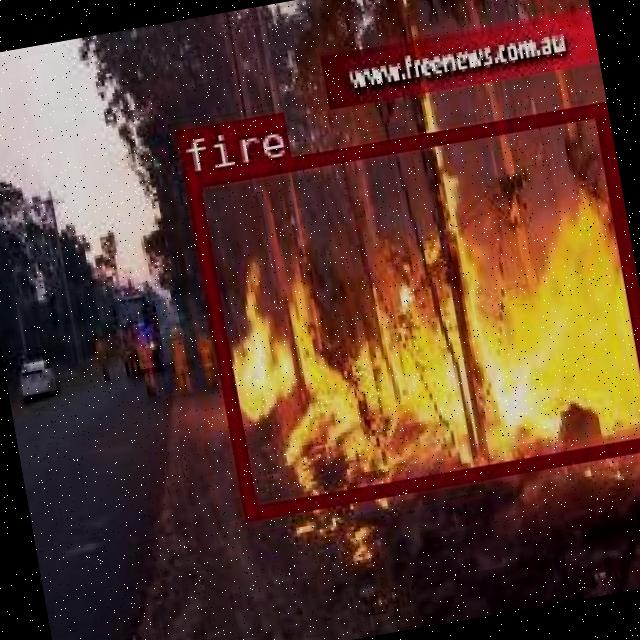fire: (182, 102, 640, 516)
